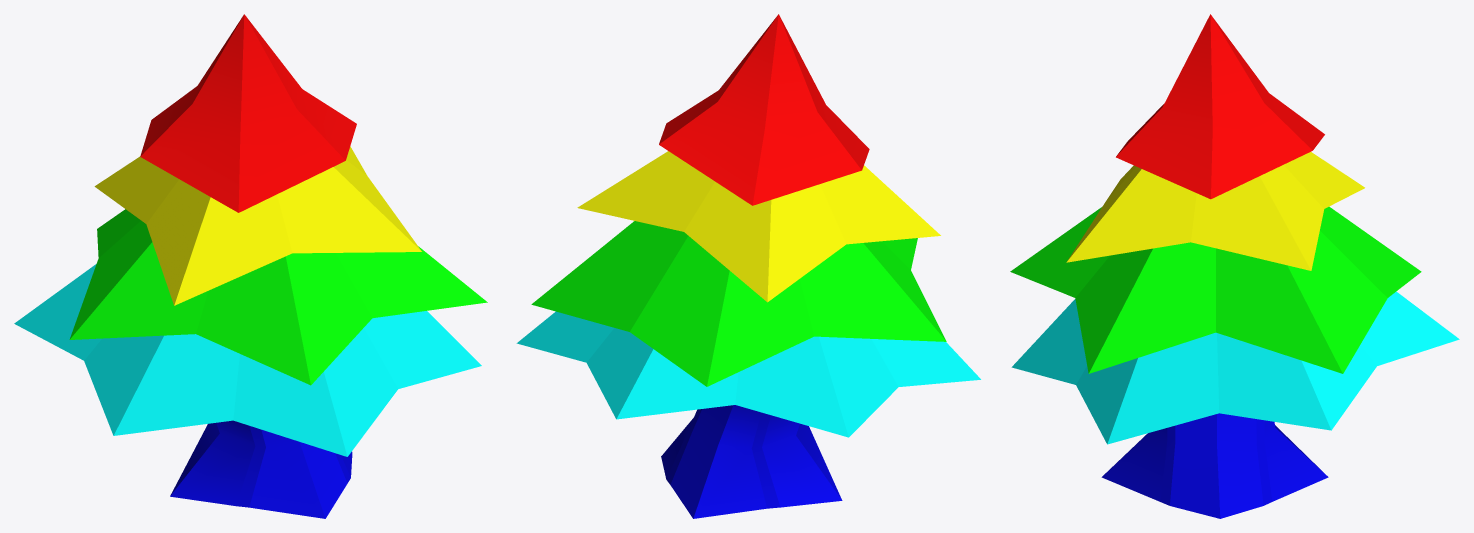
File: Abbie - Tree2.fbx
3 renders of one model, left to right at view 1: azimuth 30°, elevation 25°; view 2: azimuth 150°, elevation 25°; view 3: azimuth 270°, elevation 25°, orthographic. The views are drawn at different scales.
Parts seen in each view (by area): view 1: tree2; view 2: tree2; view 3: tree2.
Boxes of the visible parts, x1,y1,x2,y2 form: tree2: (14, 14, 487, 518); tree2: (516, 14, 980, 518); tree2: (1010, 14, 1459, 518).
Size of the model in its own units: 8.89 by 10.68 by 9.64.
